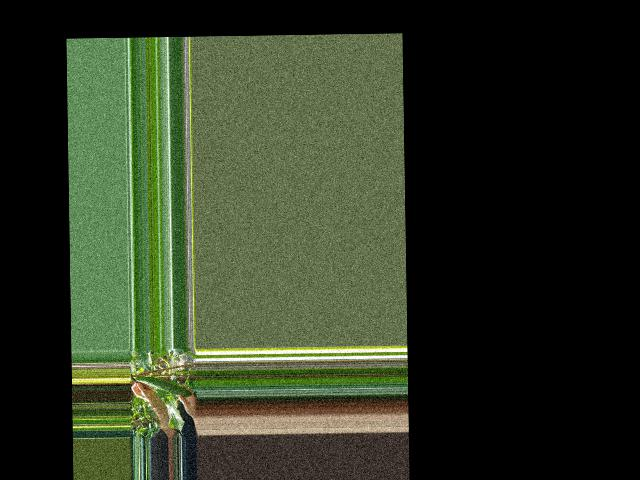cucumber: (136, 375, 191, 397)
